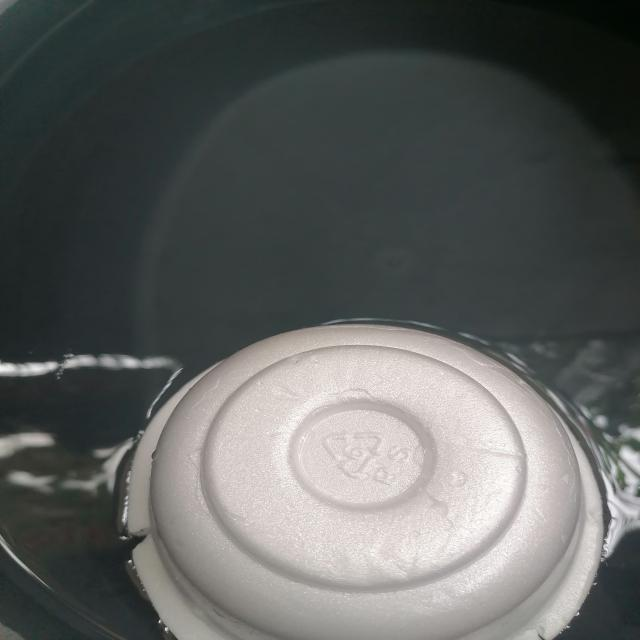Styrofoam Container: (127, 323, 607, 640)
